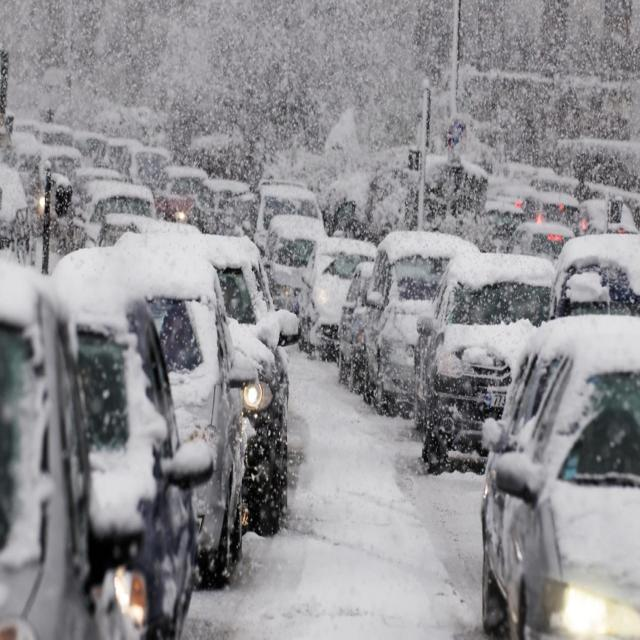Car: (41, 262, 213, 640), (59, 246, 246, 585), (480, 314, 639, 640), (0, 261, 123, 640), (171, 247, 302, 537), (415, 251, 556, 471), (364, 229, 481, 415), (300, 236, 379, 361), (263, 214, 344, 320), (558, 232, 640, 318), (242, 182, 326, 260), (338, 263, 382, 393), (193, 177, 251, 239), (521, 192, 586, 242), (153, 165, 209, 223), (502, 221, 574, 259), (482, 201, 524, 253), (580, 197, 640, 232)
